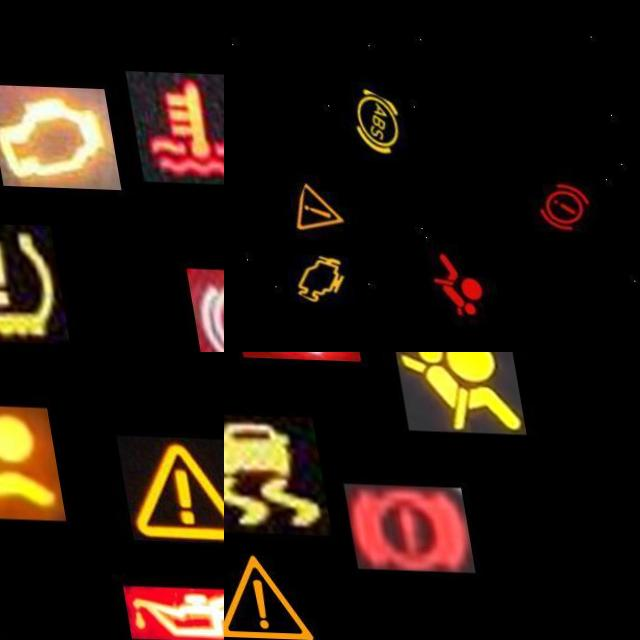Central Warning lamp: (113, 433, 224, 540), (224, 535, 306, 640)
Engine cooling system: (120, 66, 224, 181)
